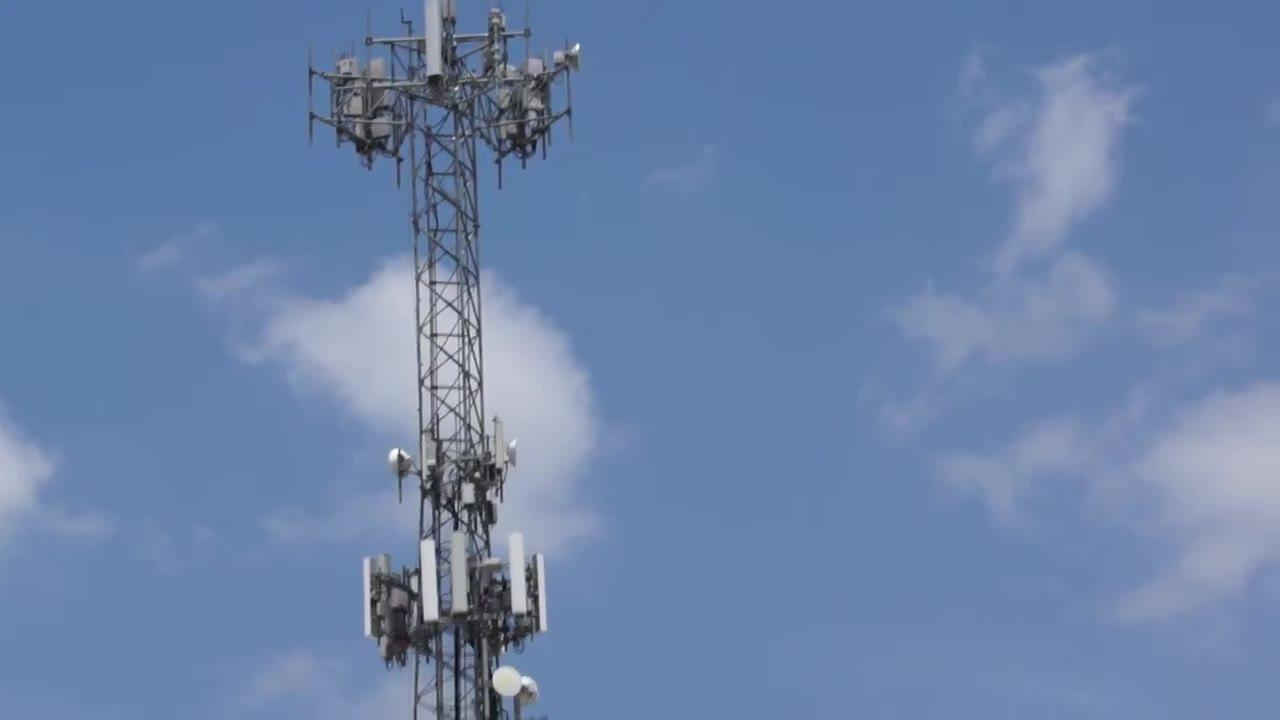Microwave Antenna: (553, 29, 588, 82), (385, 435, 416, 484), (491, 657, 525, 697), (518, 674, 553, 699), (507, 437, 531, 472)
antenna: (361, 552, 398, 668), (500, 542, 535, 663), (450, 531, 484, 647), (419, 541, 453, 649), (422, 0, 453, 108), (531, 562, 560, 673), (497, 414, 514, 474)
